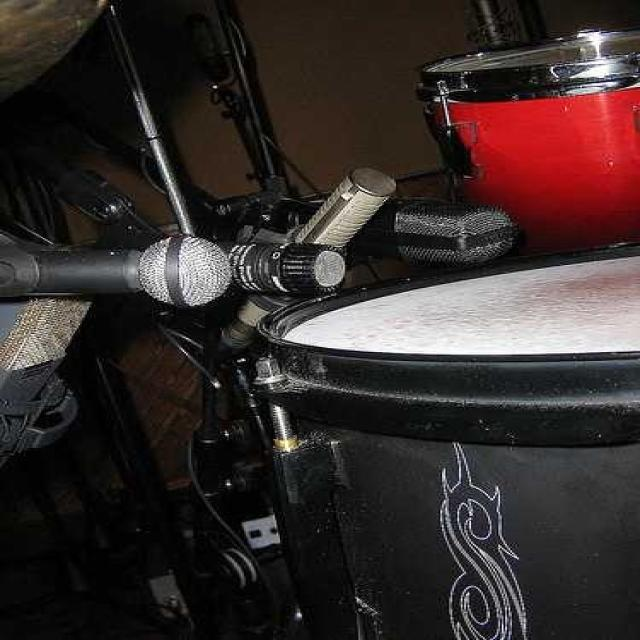microphone: (225, 168, 395, 342), (258, 188, 524, 268), (0, 223, 199, 301), (226, 241, 346, 298)
